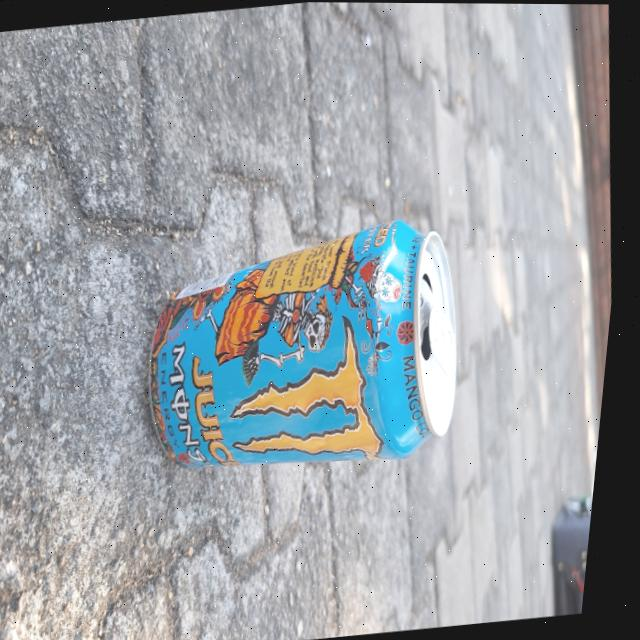Monster Mango Loco: (137, 223, 472, 477)
